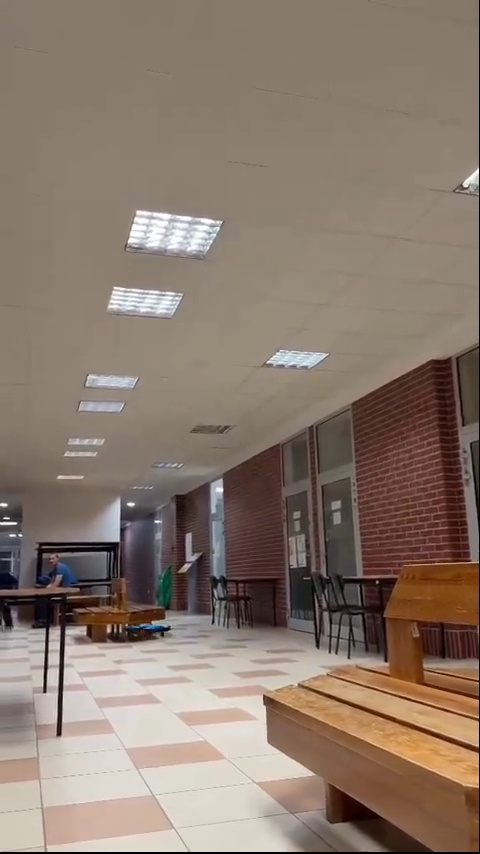drone: (128, 620, 176, 638)
no vest: (42, 551, 75, 598)
